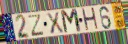2: (15, 14, 31, 41)
6: (99, 5, 113, 31)
H: (81, 6, 100, 33)
M: (59, 8, 83, 36)
X: (45, 11, 65, 36)
Z: (28, 13, 45, 38)
